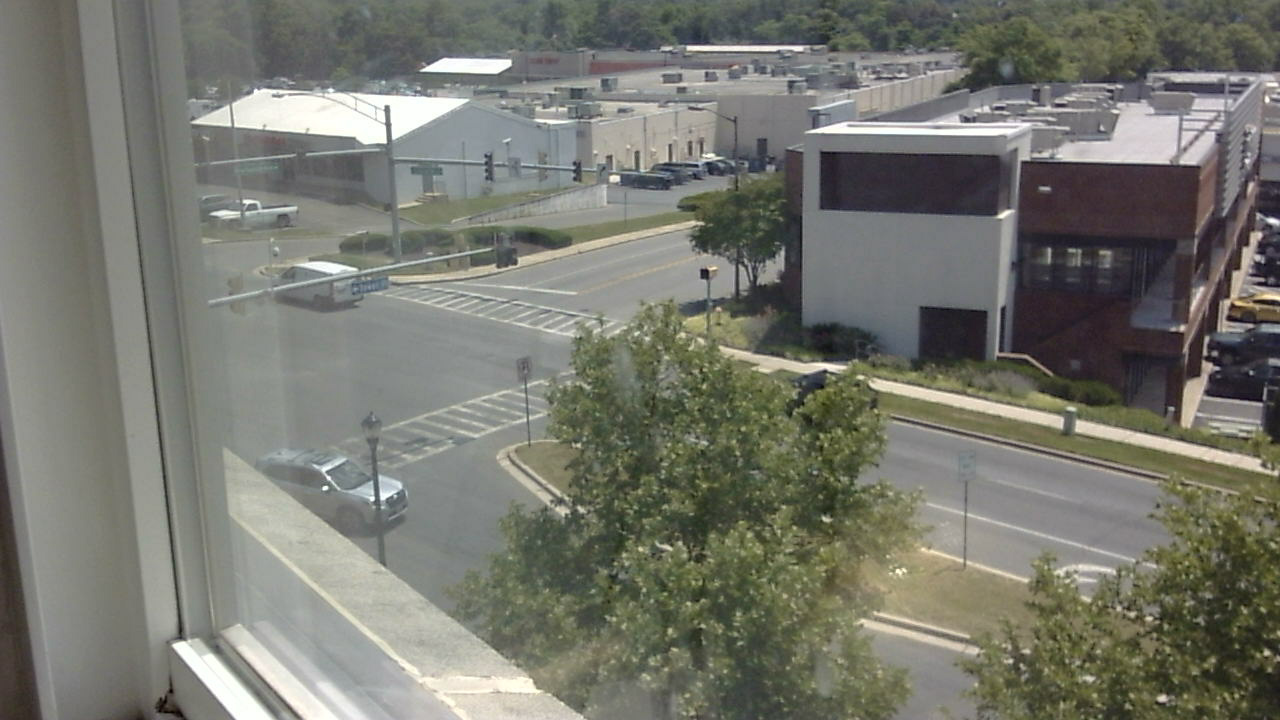Car: (254, 436, 426, 543)
Van: (268, 259, 373, 325)
